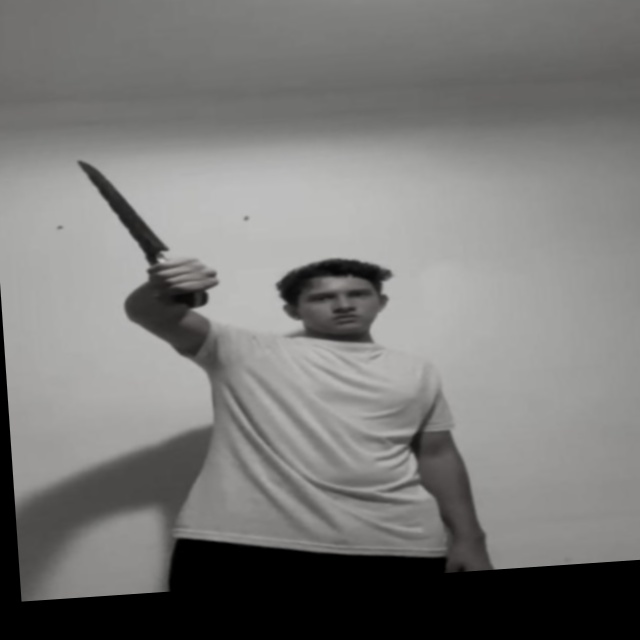Sharp-Object: (73, 156, 165, 257)
